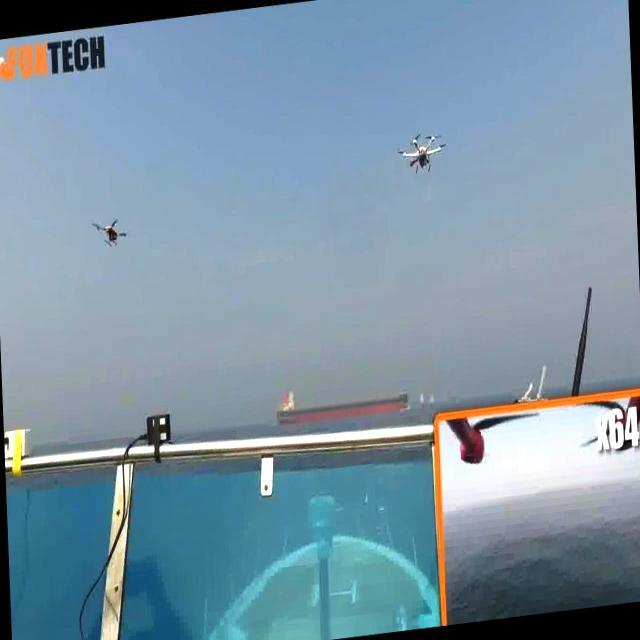drone: (392, 120, 450, 188), (91, 215, 129, 253)
